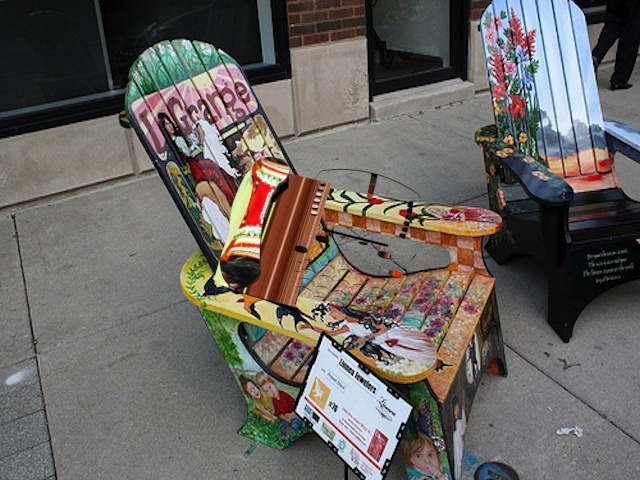phone: (208, 144, 424, 336)
